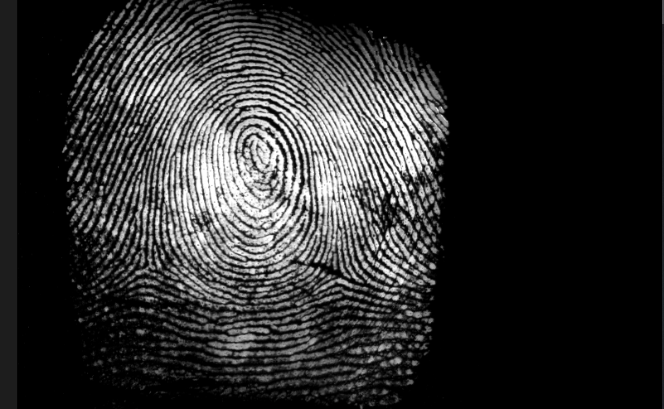deltas: (315, 247, 358, 292), (131, 242, 171, 287)
nucleo: (239, 128, 279, 172)
